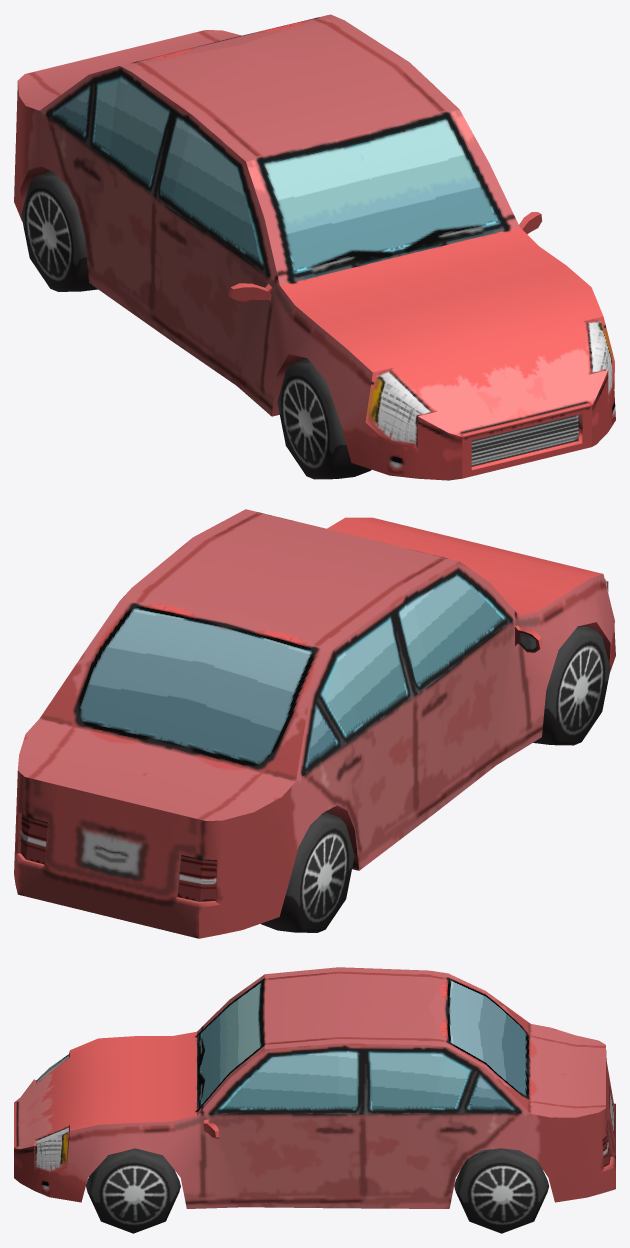
The model's file is Car2.fbx.
3 renders of one model, top to bottom at view 1: azimuth 30°, elevation 25°; view 2: azimuth 150°, elevation 25°; view 3: azimuth 270°, elevation 25°, orthographic. The views are drawn at different scales.
Parts seen in each view (by area): view 1: Body, FrontRightWheel, BackRightWheel; view 2: Body, BackRightWheel, FrontRightWheel; view 3: Body, BackLeftWheel, FrontLeftWheel.
Boxes of the visible parts, x1,y1,x2,y2 form: Body: [14, 14, 615, 480]; FrontRightWheel: [277, 358, 371, 479]; BackRightWheel: [21, 171, 97, 291]; Body: [14, 509, 615, 938]; BackRightWheel: [261, 812, 354, 932]; FrontRightWheel: [533, 625, 610, 745]; Body: [14, 967, 615, 1208]; BackLeftWheel: [454, 1148, 548, 1233]; FrontLeftWheel: [86, 1148, 180, 1233].
Bounding box in the file's own units: 210 × 165 × 487.
